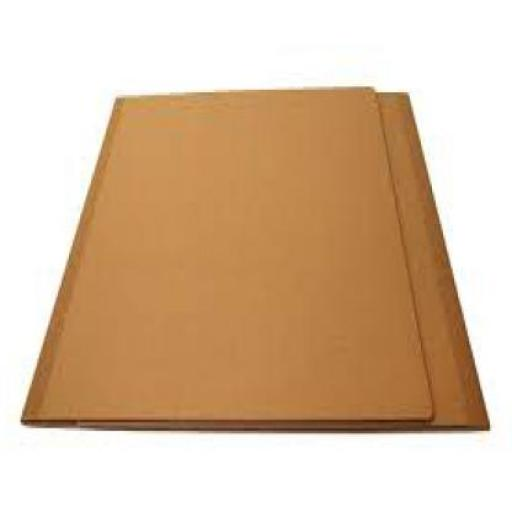cardboard: (56, 90, 494, 432), (23, 87, 434, 419)
